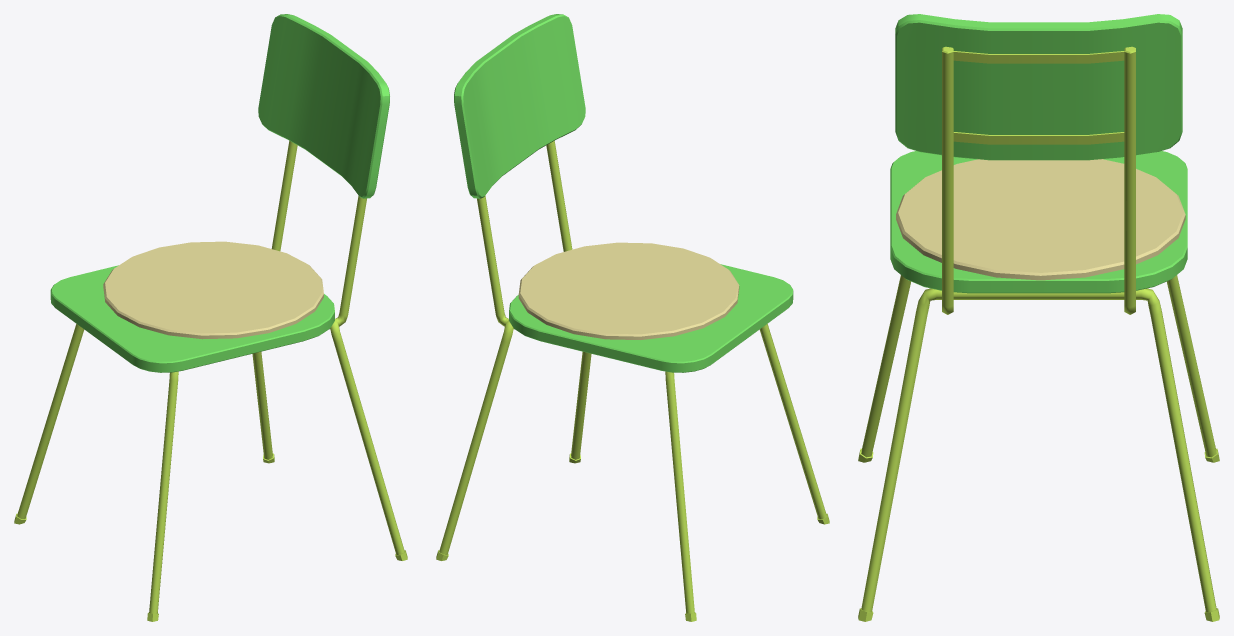
Rendered from chairA.fbx.
The picture shows the model from 3 angles, left to right: view 1: azimuth 30°, elevation 25°; view 2: azimuth 150°, elevation 25°; view 3: azimuth 270°, elevation 25°; orthographic projection. The views are drawn at different scales.
Visible parts, largest first — view 1: chairA; view 2: chairA; view 3: chairA.
Part boxes in pixels (bbox=[...]): chairA: bbox=[14, 14, 407, 621]; chairA: bbox=[436, 14, 829, 621]; chairA: bbox=[858, 14, 1219, 621].
Bounding box in the file's own units: 51.23 × 83.8 × 45.59.
